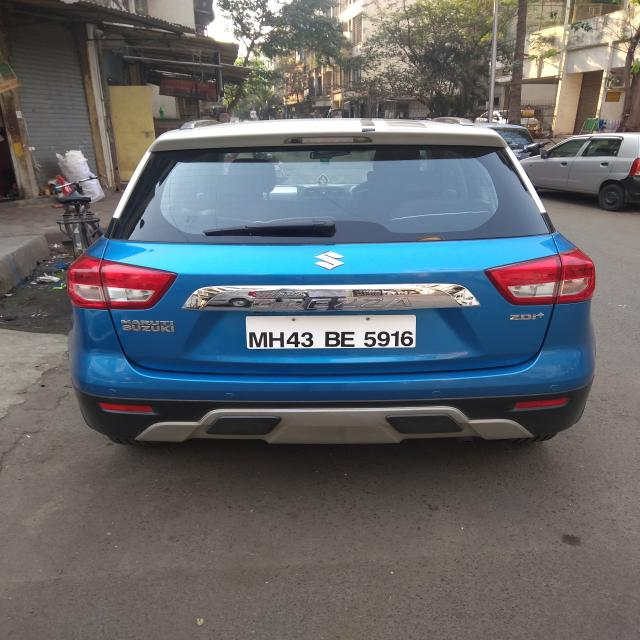Number-Plate: (248, 315, 416, 351)
